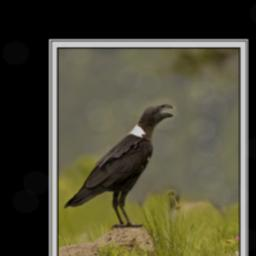Crow: (62, 102, 176, 230)
